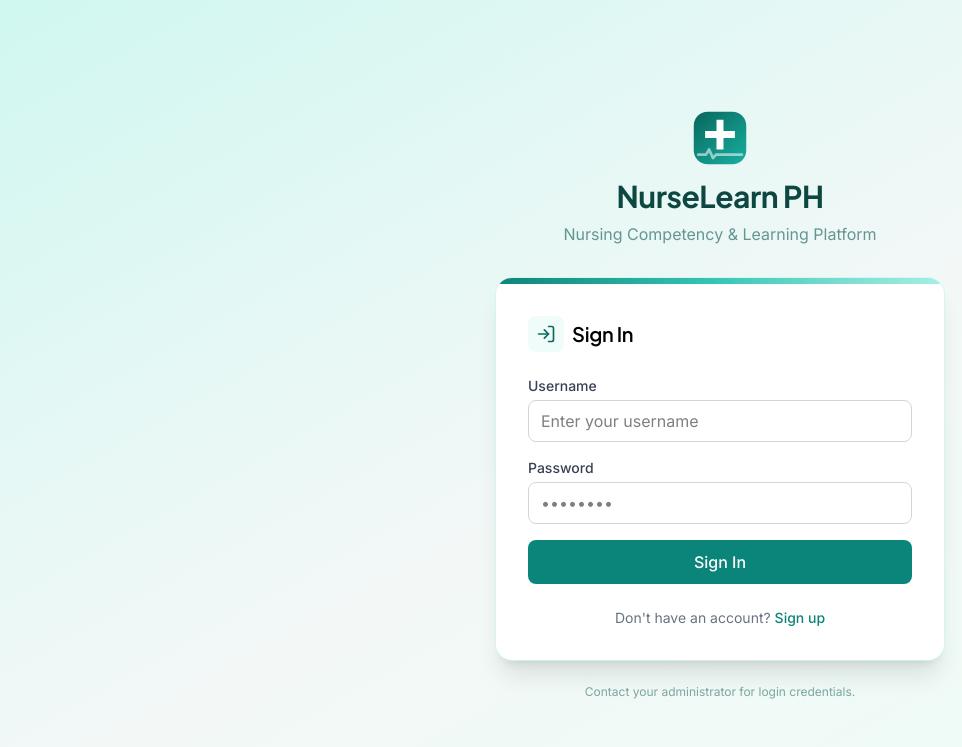
Test: LoginPage › shows friendly message for 401 response
Type "testuser" into the field with placeholder "Enter your username" at (720, 421), box [528, 400, 912, 442]
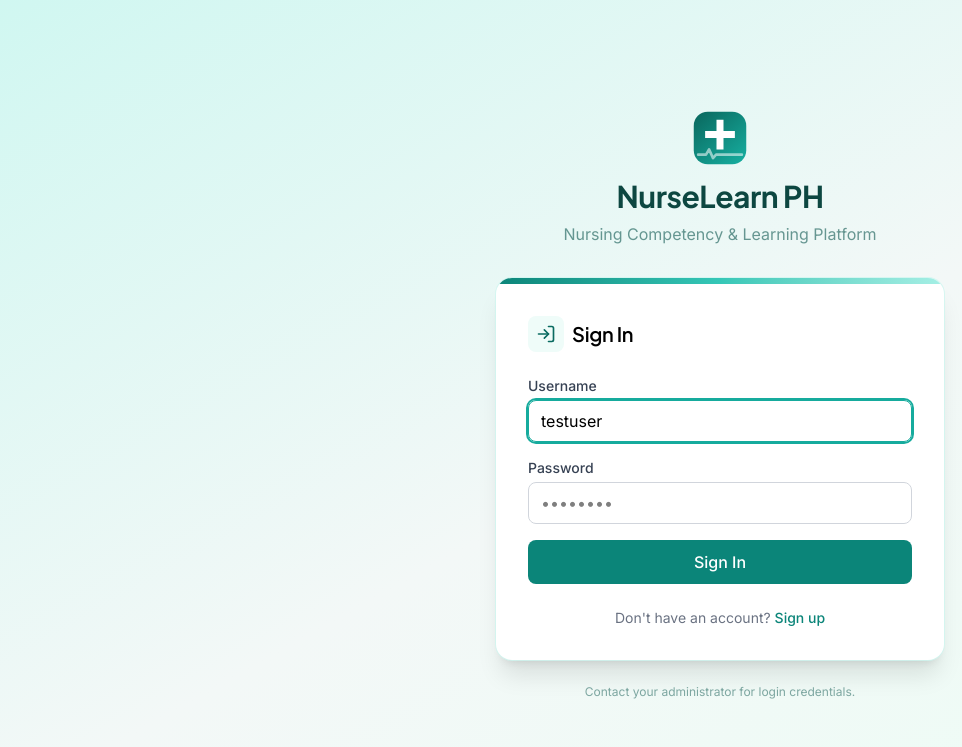
Type "wrong" into the password field with placeholder "••••••••" at (720, 503), box [528, 482, 912, 524]
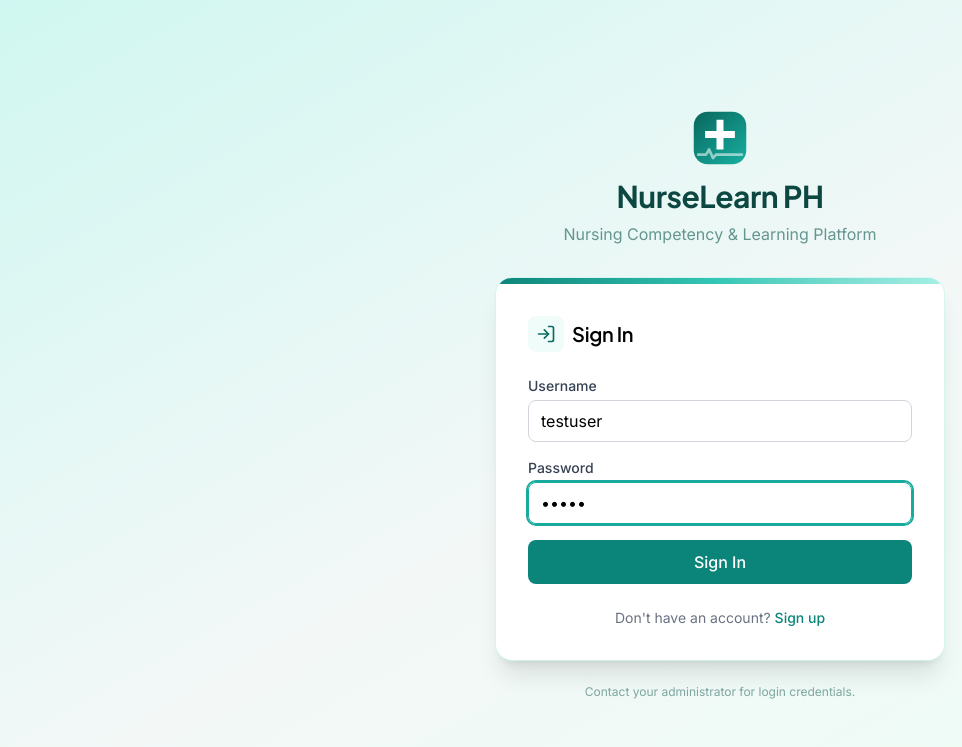
Submit the form from the button "Sign In", box [528, 540, 912, 584]
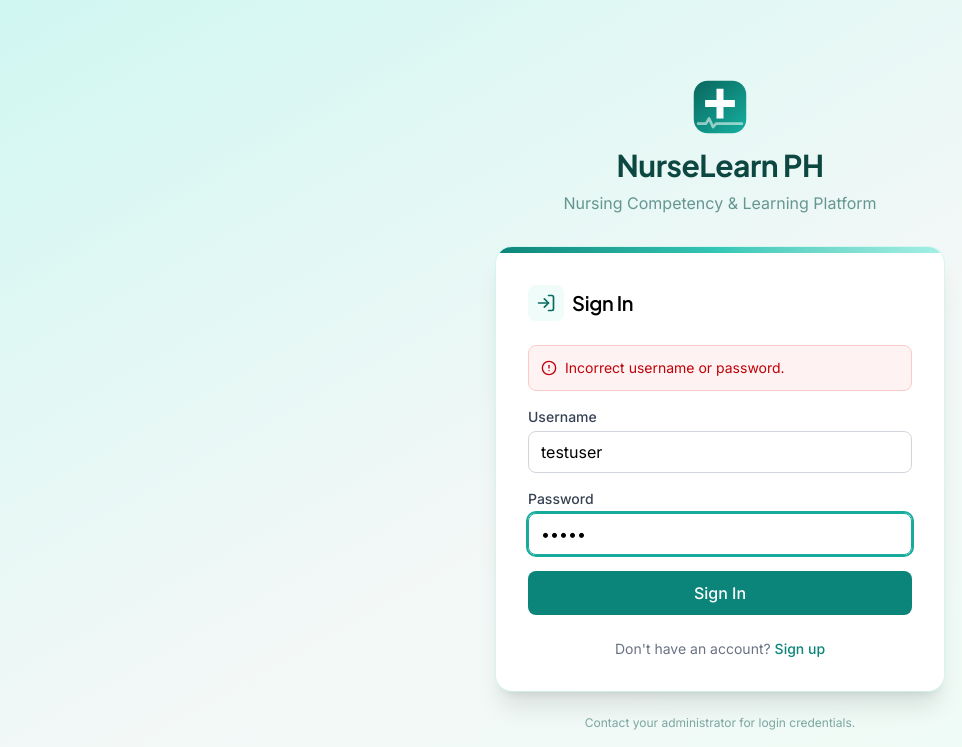
Result: the text "Incorrect username or password." is shown at [565, 358, 785, 378]
